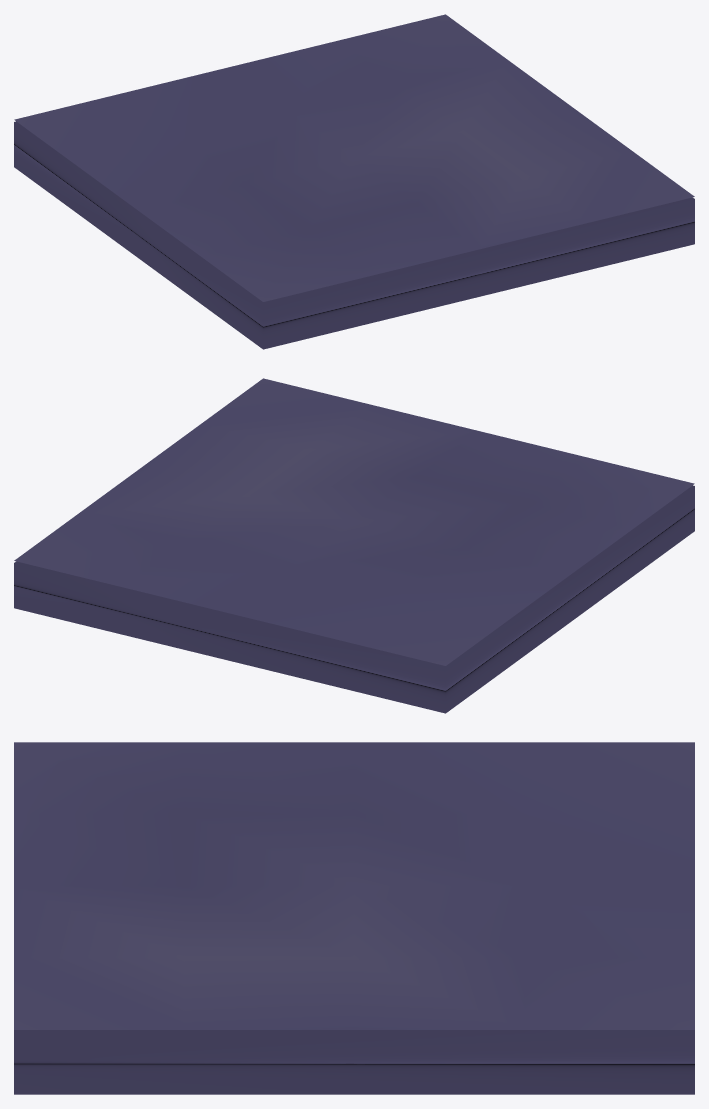
File: tile_asphalt.glb
The picture shows the model from 3 angles, top to bottom: view 1: azimuth 30°, elevation 25°; view 2: azimuth 150°, elevation 25°; view 3: azimuth 270°, elevation 25°; orthographic projection. The views are drawn at different scales.
Visible parts, largest first — view 1: Tile.001; view 2: Tile.001; view 3: Tile.001.
Part boxes in pixels (x1,y1,x2,y2): Tile.001: (14,14,694,349); Tile.001: (14,378,694,713); Tile.001: (14,742,694,1094).
Size of the model in its own units: 1 by 0.105 by 1.
